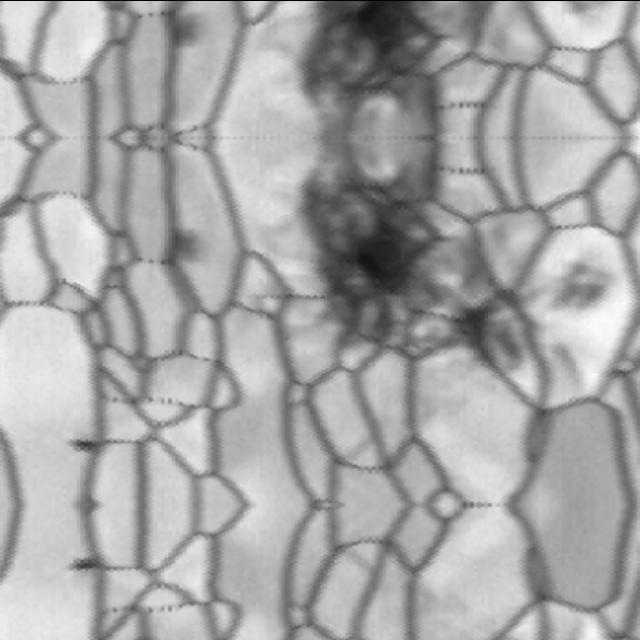good_void: (285, 136, 537, 376), (285, 0, 498, 136), (533, 246, 606, 316), (152, 223, 214, 276), (152, 0, 214, 49), (549, 336, 585, 391), (545, 0, 605, 26), (55, 429, 110, 457), (55, 550, 110, 578), (551, 616, 585, 640)
